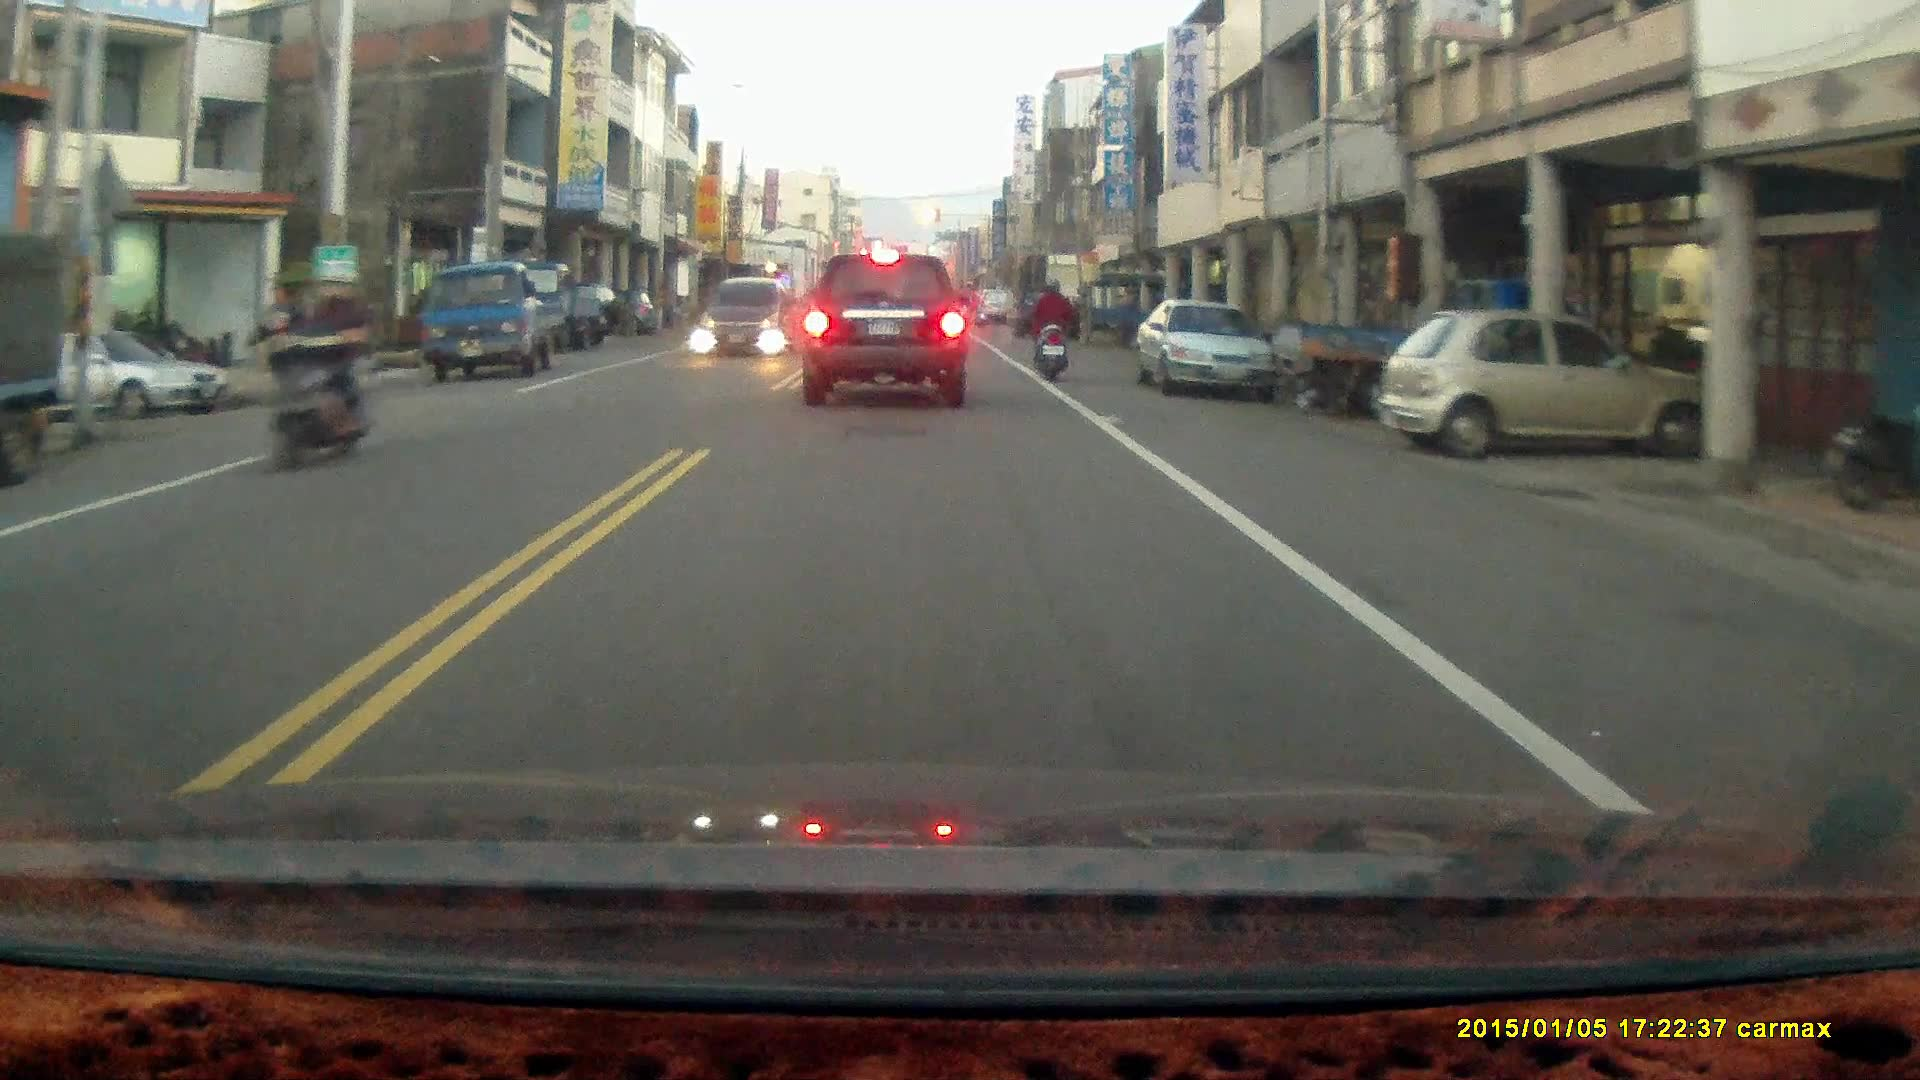pedestrian: (246, 282, 308, 426)
rider: (249, 258, 383, 474), (1030, 277, 1072, 381)
vehicle: (1390, 311, 1708, 466), (796, 252, 971, 415), (21, 326, 220, 419), (422, 265, 580, 383), (1135, 304, 1288, 400), (698, 276, 794, 358)
